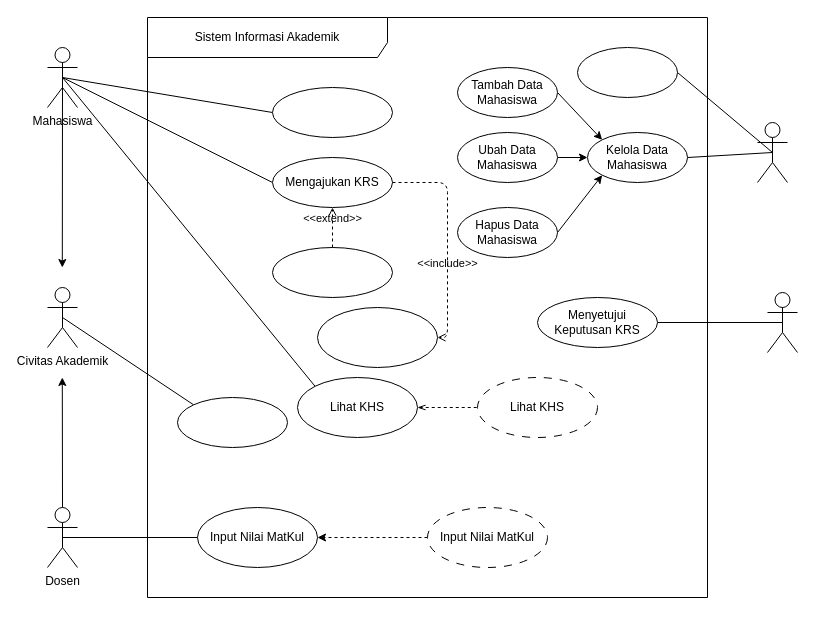
Image size: 834x621. Some labels were removed from this diagram. The centre of each missing label's shape, as x and y in pixels:
"Admin Akademik" goes at pixel 772 152.
"Dosen Wali" goes at pixel 782 322.
"Kelola Jadwal Kuliah" goes at pixel 627 72.
"Lihat Kalender Akademik" goes at pixel 232 422.
"Melihat Jadwal Kuliah" goes at pixel 332 112.
"Unduh Bukti Pengajuan KRS" goes at pixel 332 272.
"Validasi KRS" goes at pixel 377 337.
